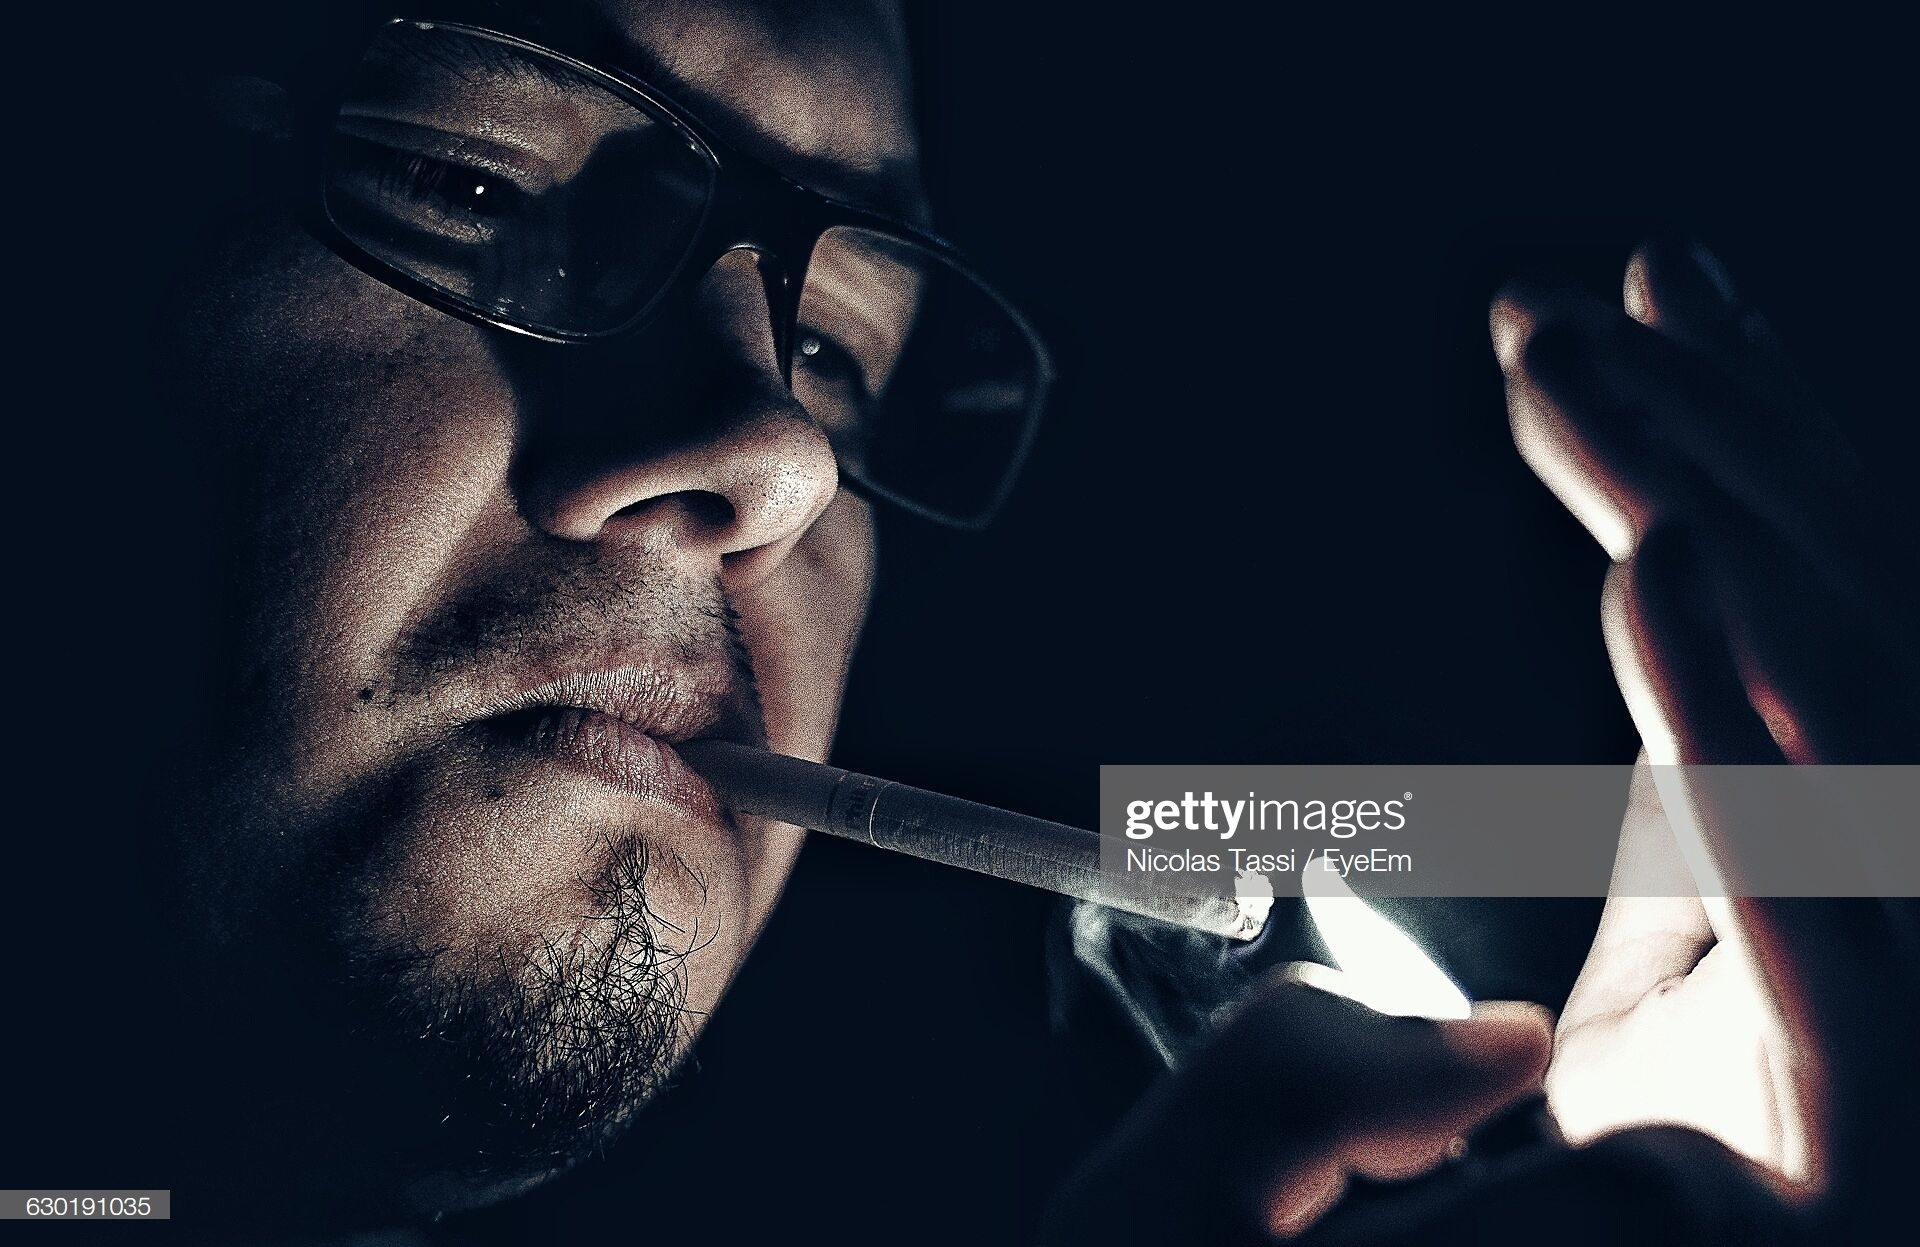sigaretta: (707, 731, 1282, 942)
